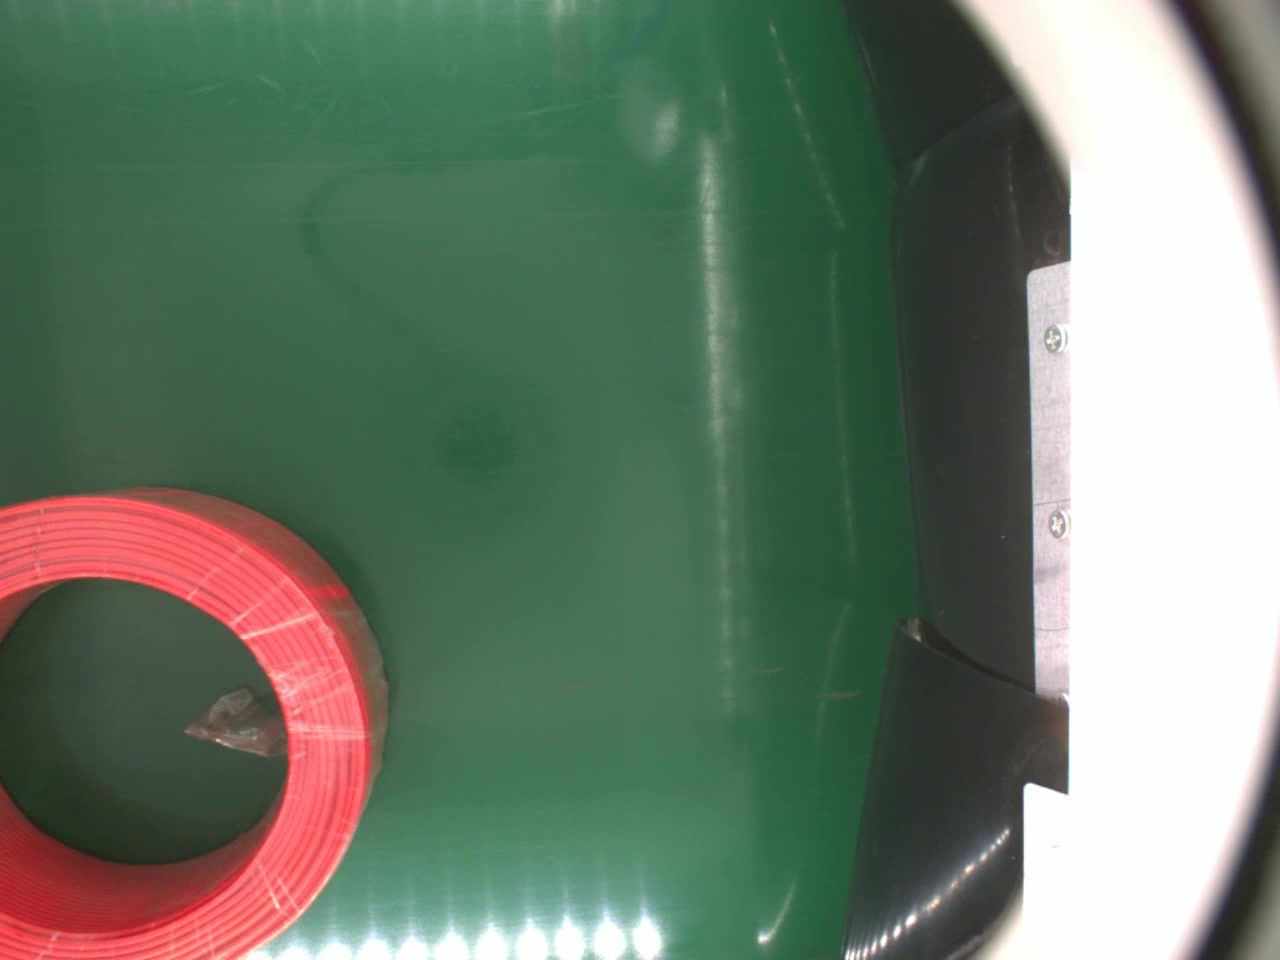red: (0, 486, 390, 960)
